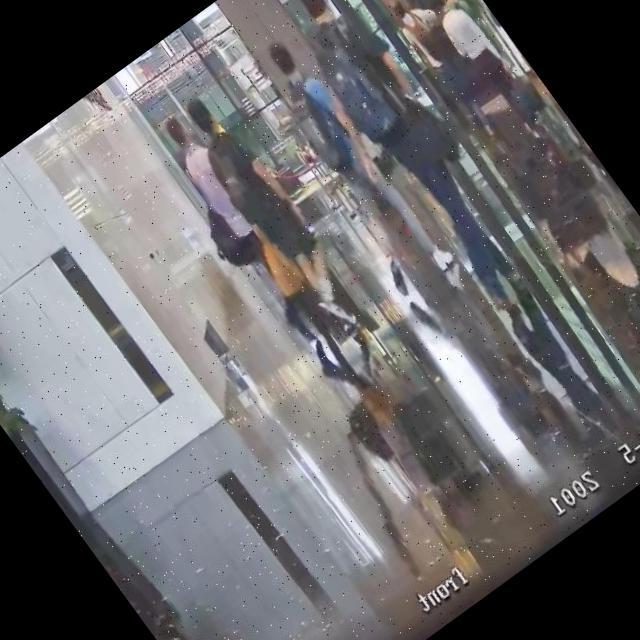person: (267, 0, 556, 320), (146, 108, 369, 392), (241, 31, 464, 307), (167, 85, 362, 326), (376, 0, 509, 139), (417, 0, 547, 137)
